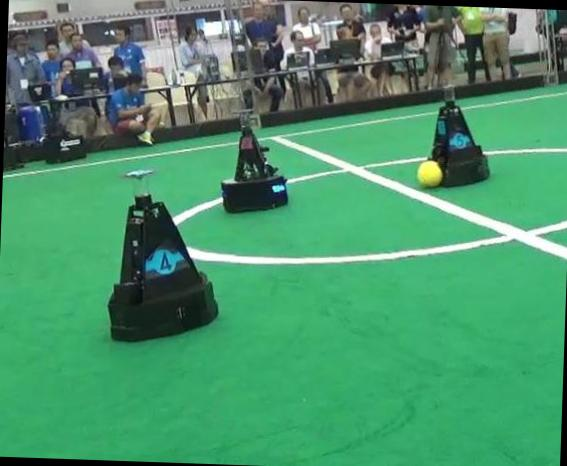ball: (416, 160, 441, 187)
robot: (107, 194, 216, 339), (221, 128, 286, 211), (431, 101, 487, 186)
